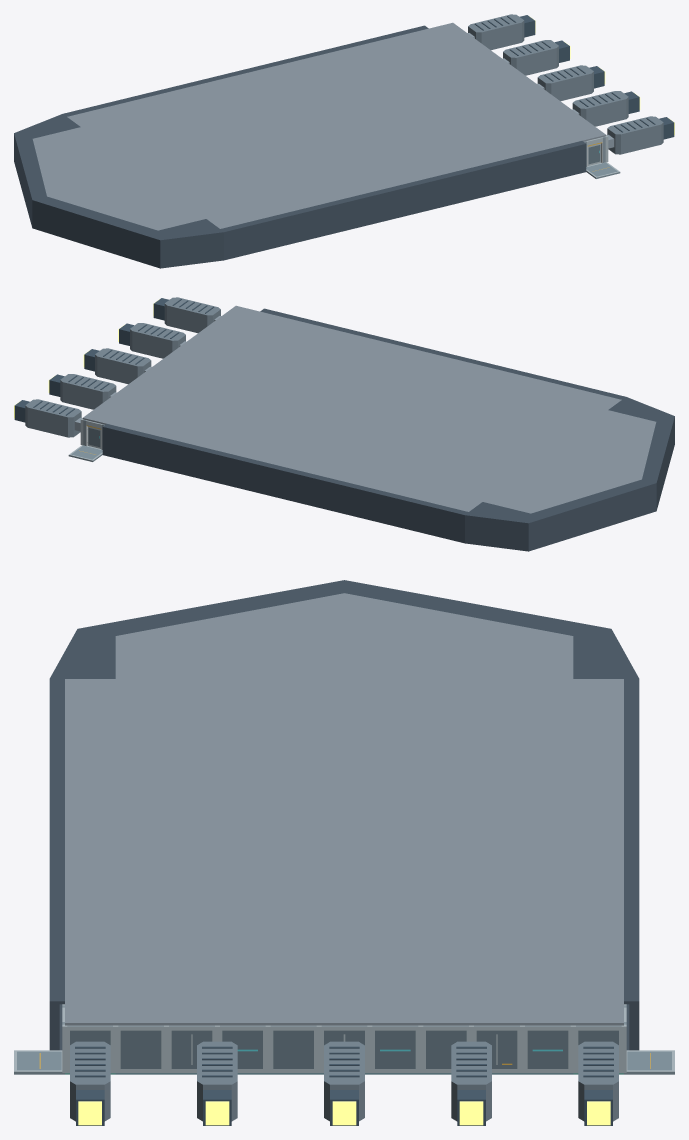
File: C01_Ship_FromPlan.glb
3 renders of one model, top to bottom at view 1: azimuth 30°, elevation 25°; view 2: azimuth 150°, elevation 25°; view 3: azimuth 270°, elevation 25°, orthographic. The views are drawn at different scales.
Visible parts, largest first — view 1: H_OuterArmor_5__00_HULL.001, H_OuterArmor_3__00_HULL.001, H_OuterArmor_4__00_HULL.001, P_Engine__01_ENGINE.005, P_Engine__01_ENGINE.001, P_Engine__01_ENGINE.003, P_Engine__01_ENGINE.004, P_Engine__01_ENGINE.002, H_OuterArmor_0__00_HULL.001, H_OuterArmor_2__00_HULL.001, H_Rim_Upper_1__00_HULL.001, H_Rim_Upper_0__00_HULL.001 (+5 smaller); view 2: H_OuterArmor_0__00_HULL.001, H_OuterArmor_2__00_HULL.001, H_OuterArmor_1__00_HULL.001, P_Engine__01_ENGINE.001, P_Engine__01_ENGINE.005, P_Engine__01_ENGINE.002, P_Engine__01_ENGINE.003, P_Engine__01_ENGINE.004, H_OuterArmor_5__00_HULL.001, H_OuterArmor_3__00_HULL.001, H_Rim_Upper_0__00_HULL.001, H_Rim_Upper_1__00_HULL.001 (+3 smaller); view 3: H_OuterArmor_0__00_HULL.001, H_OuterArmor_5__00_HULL.001, P_Engine__01_ENGINE.001, P_Engine__01_ENGINE.002, P_Engine__01_ENGINE.004, P_Engine__01_ENGINE.005, P_Engine__01_ENGINE.003, H_Rim_Upper_0__00_HULL.001, H_Rim_Upper_1__00_HULL.001, W01_Wall_3m__03_INSET.051, W01_Wall_3m__03_INSET.050, H_OuterArmor_2__00_HULL.001 (+209 smaller).
Part boxes in pixels (left/top/right/bottom): H_OuterArmor_5__00_HULL.001: left=222, top=142, right=586, bottom=260; H_OuterArmor_3__00_HULL.001: left=32, top=199, right=160, bottom=268; H_OuterArmor_4__00_HULL.001: left=160, top=230, right=223, bottom=268; P_Engine__01_ENGINE.005: left=607, top=116, right=663, bottom=154; P_Engine__01_ENGINE.001: left=468, top=14, right=524, bottom=50; P_Engine__01_ENGINE.003: left=537, top=65, right=593, bottom=101; P_Engine__01_ENGINE.004: left=572, top=91, right=628, bottom=126; P_Engine__01_ENGINE.002: left=503, top=40, right=558, bottom=75; H_OuterArmor_0__00_HULL.001: left=63, top=25, right=426, bottom=115; H_OuterArmor_2__00_HULL.001: left=14, top=133, right=37, bottom=227; H_Rim_Upper_1__00_HULL.001: left=220, top=141, right=583, bottom=229; H_Rim_Upper_0__00_HULL.001: left=66, top=27, right=428, bottom=116; H_OuterArmor_0__00_HULL.001: left=102, top=425, right=466, bottom=543; H_OuterArmor_2__00_HULL.001: left=528, top=482, right=656, bottom=551; H_OuterArmor_1__00_HULL.001: left=465, top=513, right=528, bottom=551; P_Engine__01_ENGINE.001: left=25, top=399, right=81, bottom=437; P_Engine__01_ENGINE.005: left=164, top=297, right=220, bottom=333; P_Engine__01_ENGINE.002: left=60, top=374, right=116, bottom=409; P_Engine__01_ENGINE.003: left=95, top=348, right=151, bottom=384; P_Engine__01_ENGINE.004: left=130, top=323, right=185, bottom=358; H_OuterArmor_5__00_HULL.001: left=262, top=308, right=625, bottom=398; H_OuterArmor_3__00_HULL.001: left=651, top=416, right=674, bottom=510; H_Rim_Upper_0__00_HULL.001: left=105, top=424, right=468, bottom=512; H_Rim_Upper_1__00_HULL.001: left=260, top=310, right=622, bottom=399; H_OuterArmor_0__00_HULL.001: left=629, top=679, right=639, bottom=1050; H_OuterArmor_5__00_HULL.001: left=49, top=679, right=59, bottom=1050; P_Engine__01_ENGINE.001: left=578, top=1041, right=618, bottom=1121; P_Engine__01_ENGINE.002: left=451, top=1041, right=491, bottom=1121; P_Engine__01_ENGINE.004: left=197, top=1041, right=237, bottom=1121; P_Engine__01_ENGINE.005: left=70, top=1041, right=110, bottom=1121; P_Engine__01_ENGINE.003: left=324, top=1041, right=364, bottom=1121; H_Rim_Upper_0__00_HULL.001: left=624, top=679, right=629, bottom=1004; H_Rim_Upper_1__00_HULL.001: left=59, top=679, right=64, bottom=1004; W01_Wall_3m__03_INSET.051: left=120, top=1030, right=161, bottom=1068; W01_Wall_3m__03_INSET.050: left=273, top=1030, right=313, bottom=1068; H_OuterArmor_2__00_HULL.001: left=344, top=580, right=610, bottom=631.
Bounding box in the file's own units: 70.83 × 3.36 × 39.
